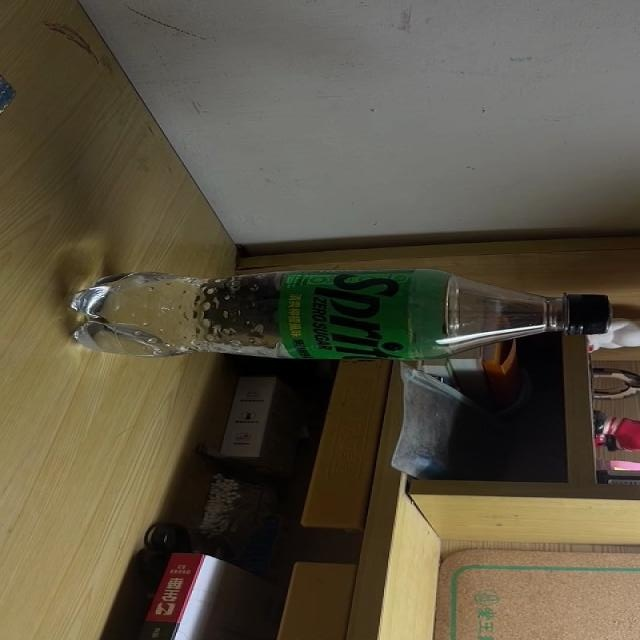Sprite: (56, 268, 612, 360)
